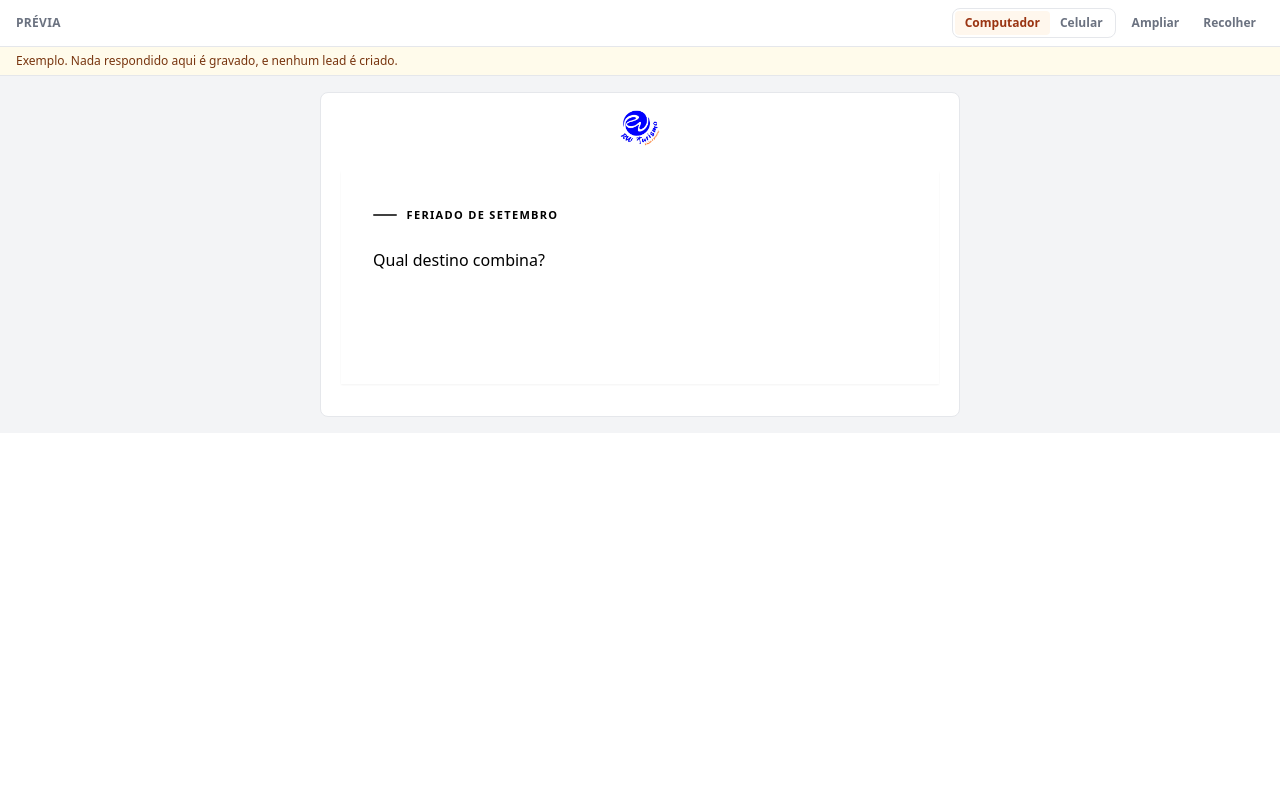
Test: ampliar › ampliada, some o Recolher — não faz sentido em tela cheia
Expected: the button "Recolher" is shown, left=1195, top=11, right=1264, bottom=35
Click the button "Ampliar" at (1155, 23), box left=1124, top=11, right=1187, bottom=35
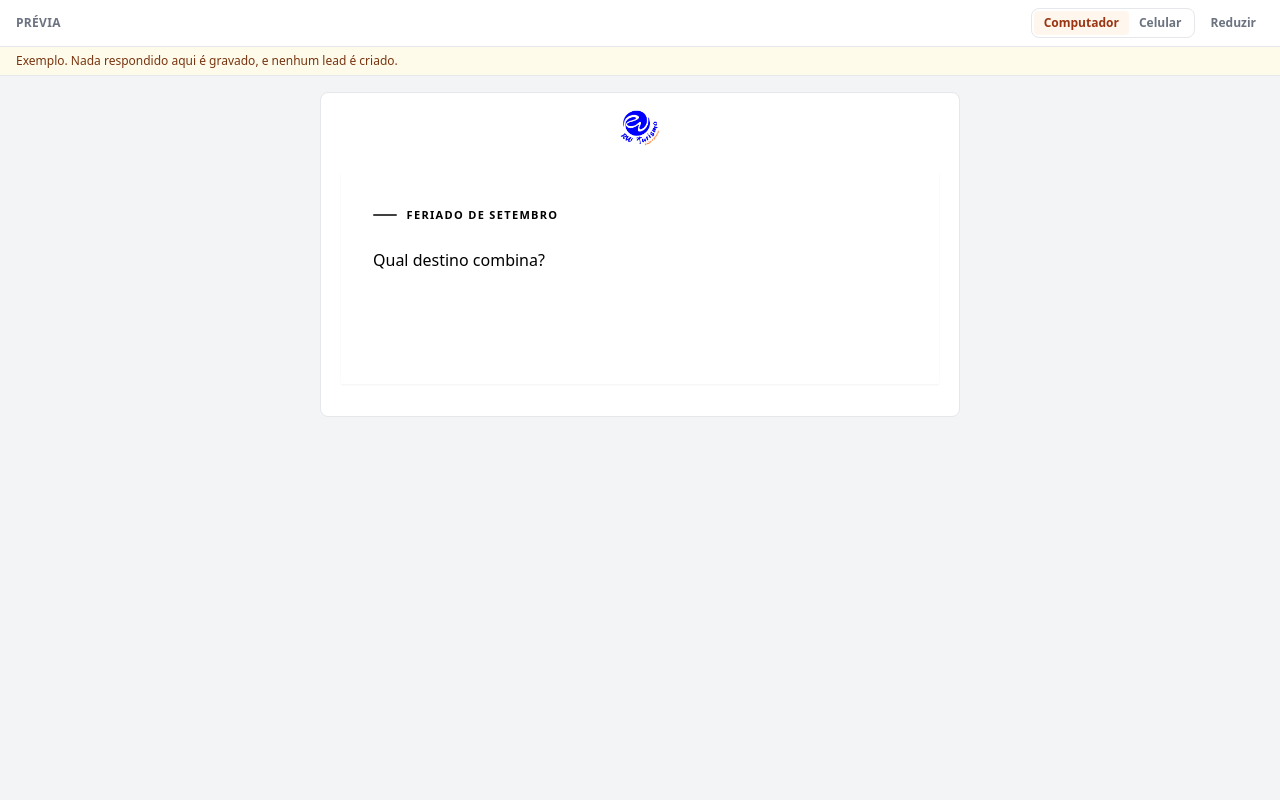
Expected: the button "Recolher" is gone
